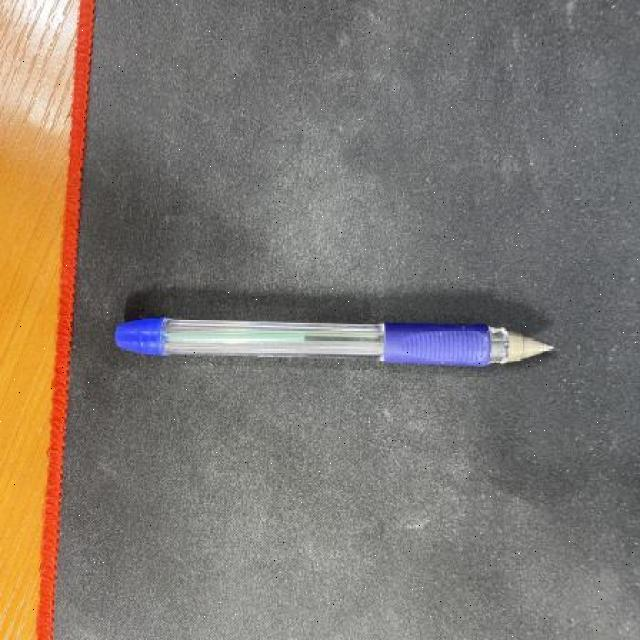pen: (112, 317, 552, 367)
